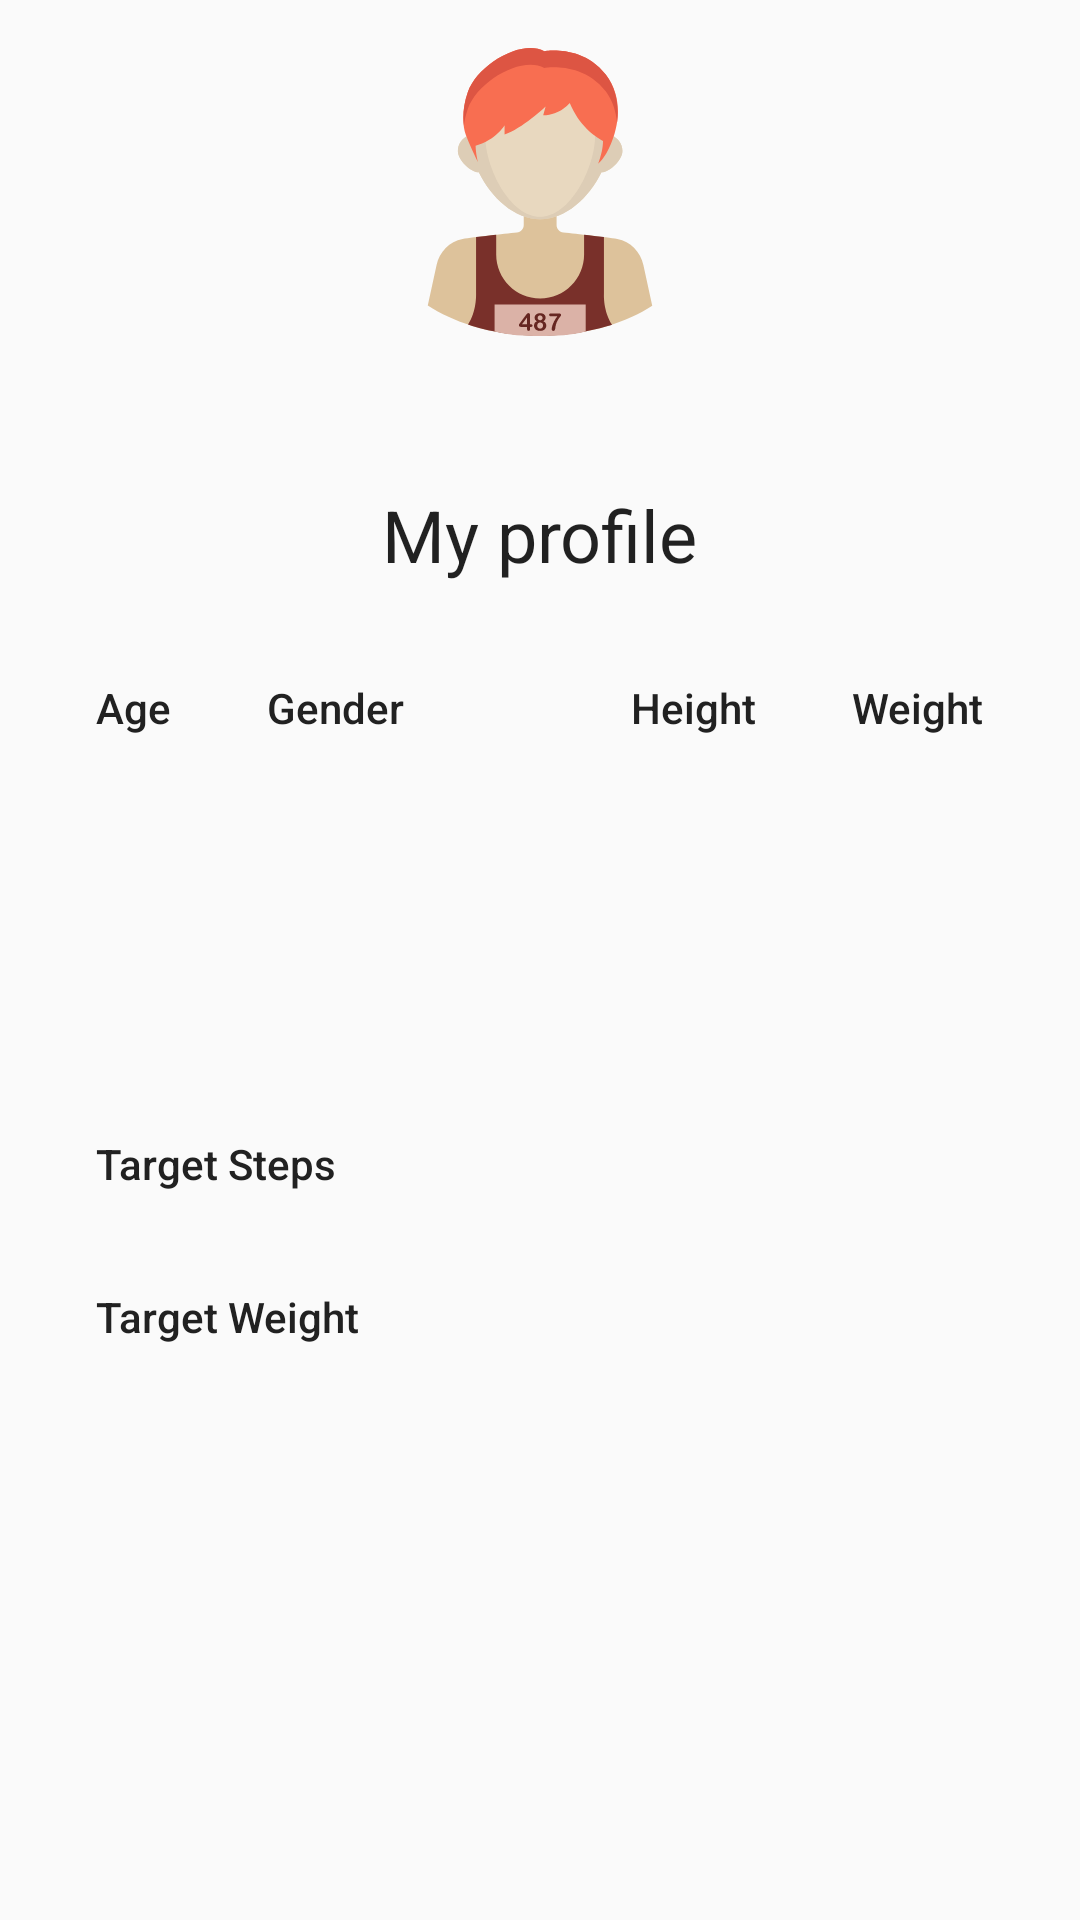

Icons on this 1080w x 1920h Android screen, each with its box as (x1, y1, x2, y2):
runner: (428, 48, 652, 336)
